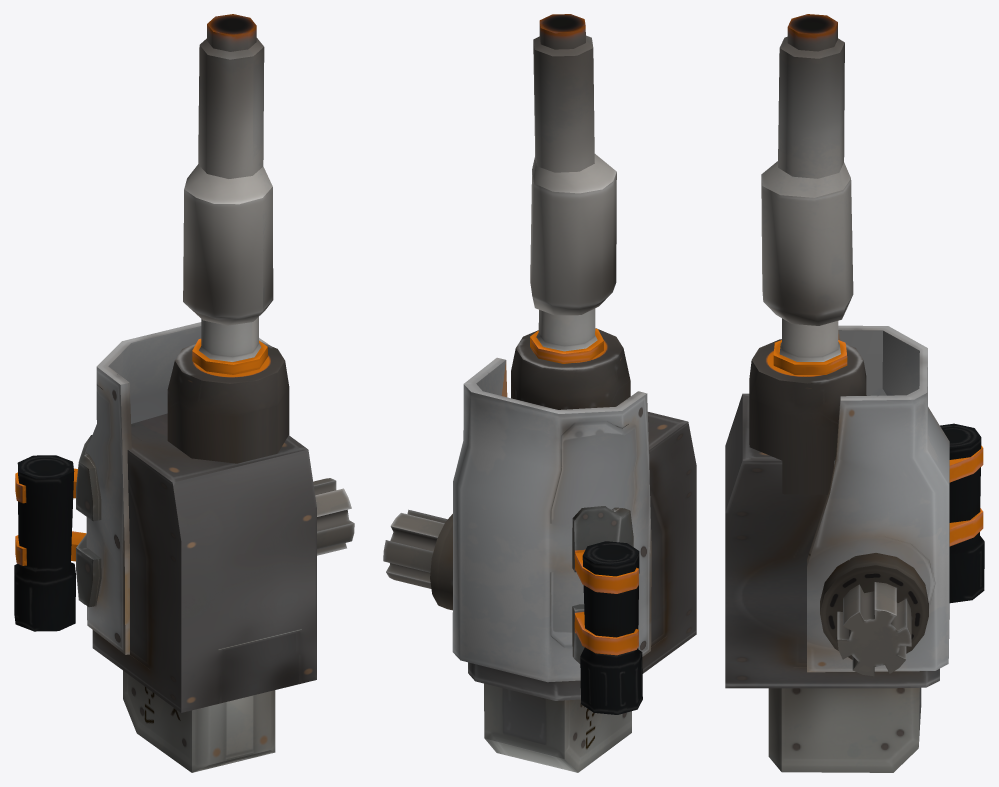
Rendered from SK_USA_01_Cannon_edited_mesh.FBX.
3 views of the same model, side by side, from view 1: azimuth 30°, elevation 25°; view 2: azimuth 150°, elevation 25°; view 3: azimuth 270°, elevation 25° (orthographic). The views are drawn at different scales.
Visible parts, largest first — view 1: SK_USA_01_Cannon_Riht_Lvl_01, Burrel_top, Burrel; view 2: SK_USA_01_Cannon_Riht_Lvl_01, Burrel_top, Burrel; view 3: SK_USA_01_Cannon_Riht_Lvl_01, Burrel_top, Burrel.
Boxes of the visible parts, box(x1,y1,x2,y2) form: SK_USA_01_Cannon_Riht_Lvl_01: box(14, 322, 354, 772); Burrel_top: box(183, 14, 273, 325); Burrel: box(167, 317, 289, 463); SK_USA_01_Cannon_Riht_Lvl_01: box(383, 357, 696, 772); Burrel_top: box(530, 14, 616, 315); Burrel: box(511, 308, 630, 409); SK_USA_01_Cannon_Riht_Lvl_01: box(725, 325, 984, 772); Burrel_top: box(761, 14, 853, 325); Burrel: box(749, 318, 866, 494).
Bounding box in the file's own units: 331 × 814 × 261.
